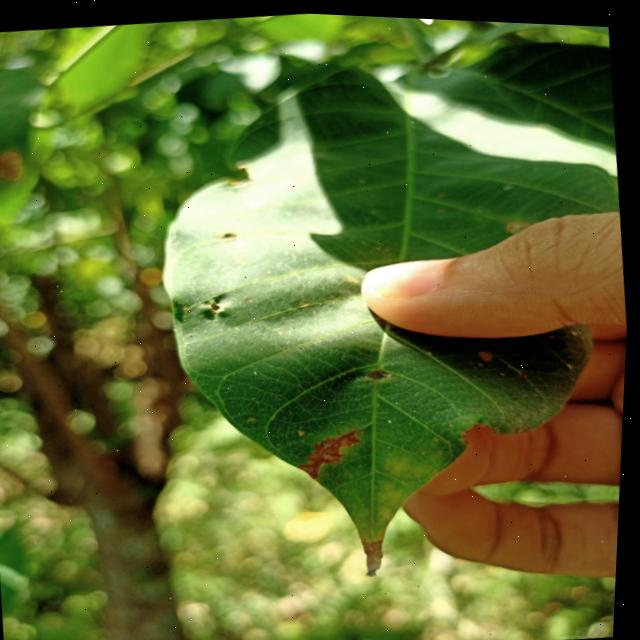Corynespora: (298, 421, 369, 479)
